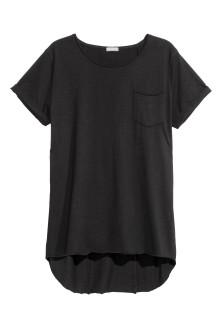teeshirt: (14, 25, 216, 283)
